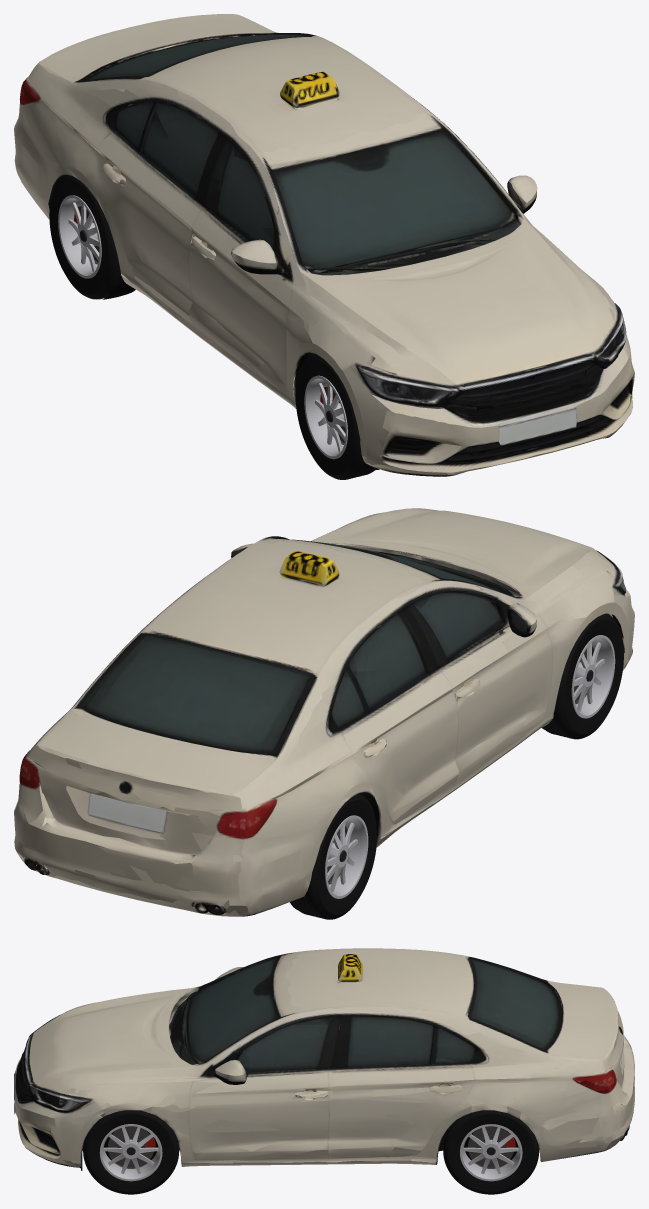
Rendered from taxi.glb.
3 renders of one model, top to bottom at view 1: azimuth 30°, elevation 25°; view 2: azimuth 150°, elevation 25°; view 3: azimuth 270°, elevation 25°, orthographic. The views are drawn at different scales.
Visible parts, largest first — view 1: karosserie, rad_hr, rad_vr; view 2: karosserie, rad_vr, rad_hr; view 3: karosserie, rad_hl, rad_vl.
Boxes of the visible parts, x1,y1,x2,y2 form: karosserie: (14, 14, 634, 476); rad_hr: (49, 175, 119, 299); rad_vr: (295, 353, 375, 479); karosserie: (14, 508, 634, 916); rad_vr: (542, 613, 623, 739); rad_hr: (290, 793, 376, 919); karosserie: (14, 948, 634, 1170); rad_hl: (443, 1110, 539, 1194); rad_vl: (83, 1110, 179, 1194).
Bounding box in the file's own units: 1.97 × 1.61 × 4.8.
Materials: 3 (1 with a texture image).
